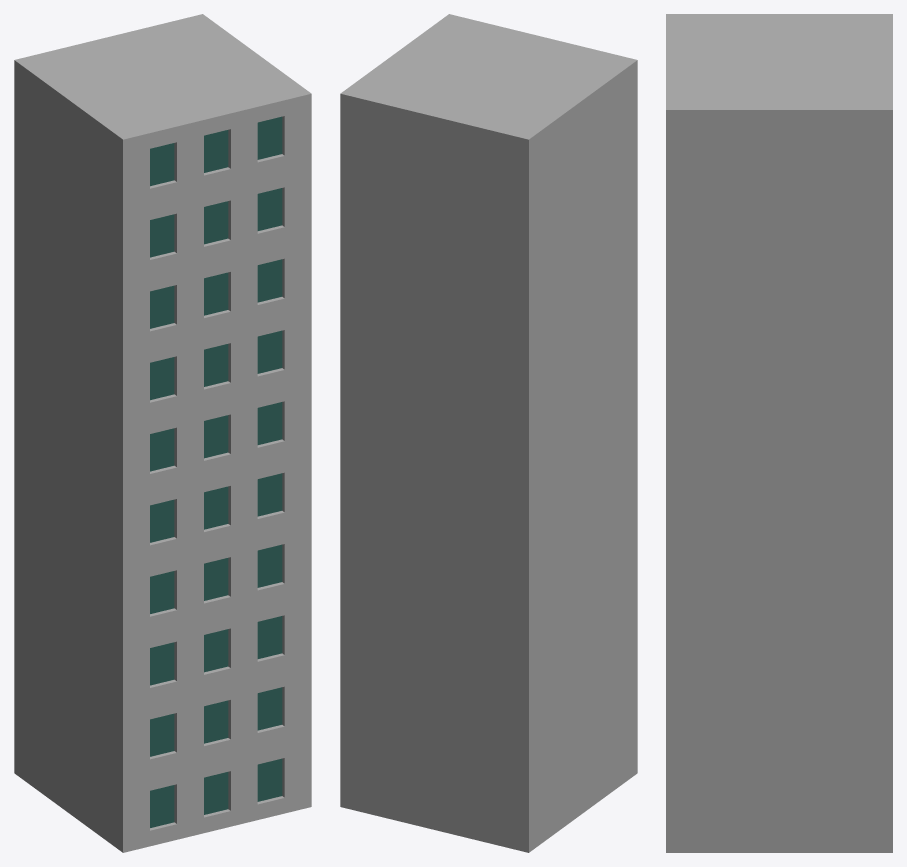
Rendered from building.glb.
3 renders of one model, left to right at view 1: azimuth 30°, elevation 25°; view 2: azimuth 150°, elevation 25°; view 3: azimuth 270°, elevation 25°, orthographic. The views are drawn at different scales.
Visible parts, largest first — view 1: Cube; view 2: Cube; view 3: Cube.
Boxes of the visible parts, bbox=[...] form: Cube: bbox=[14, 14, 311, 852]; Cube: bbox=[340, 14, 637, 852]; Cube: bbox=[666, 14, 892, 852].
Size of the model in its own units: 25.5 by 92.2 by 25.5.
